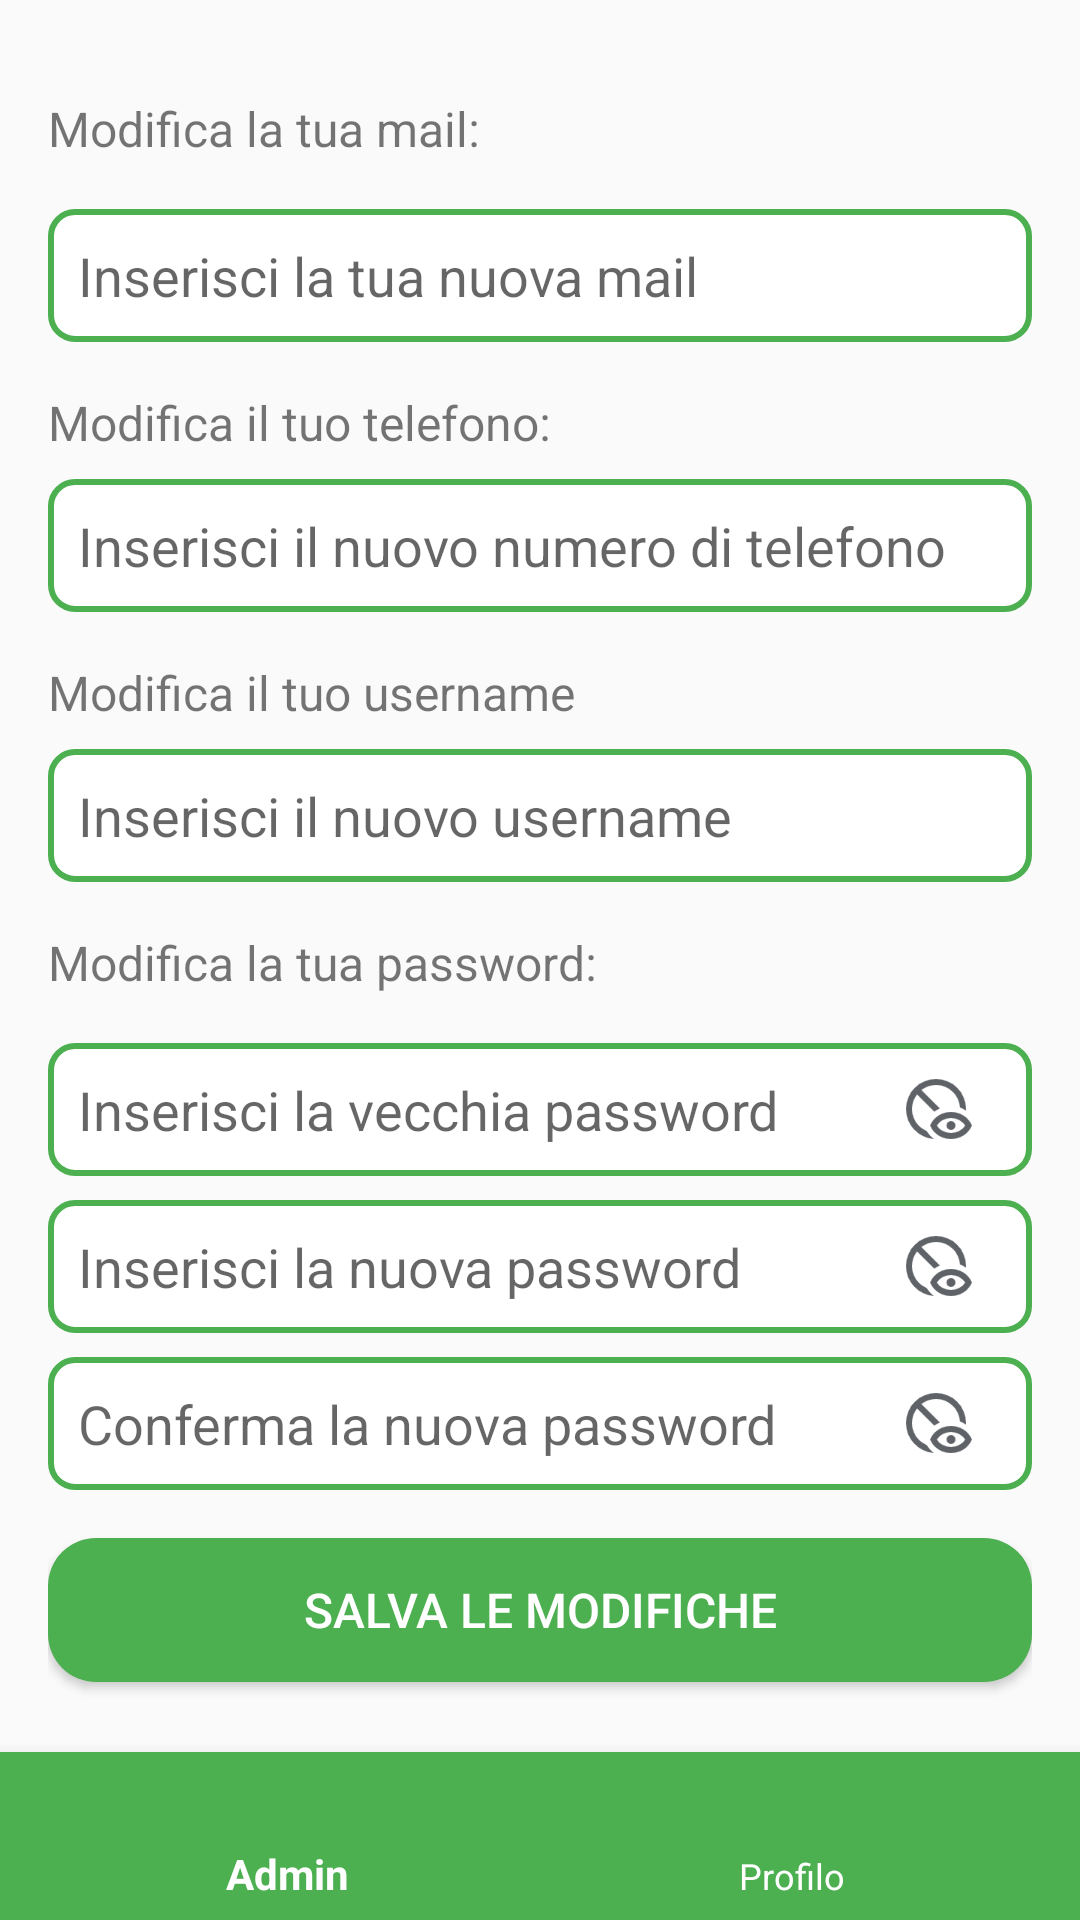

Where icons sit on this 1080 x 1920 app screen, as (x1, y1, x2, y2):
Mostra Conferma Password: (906, 1393, 972, 1453)
Mostra Nuova Password: (906, 1236, 972, 1296)
Mostra Vecchia Password: (906, 1079, 972, 1139)
